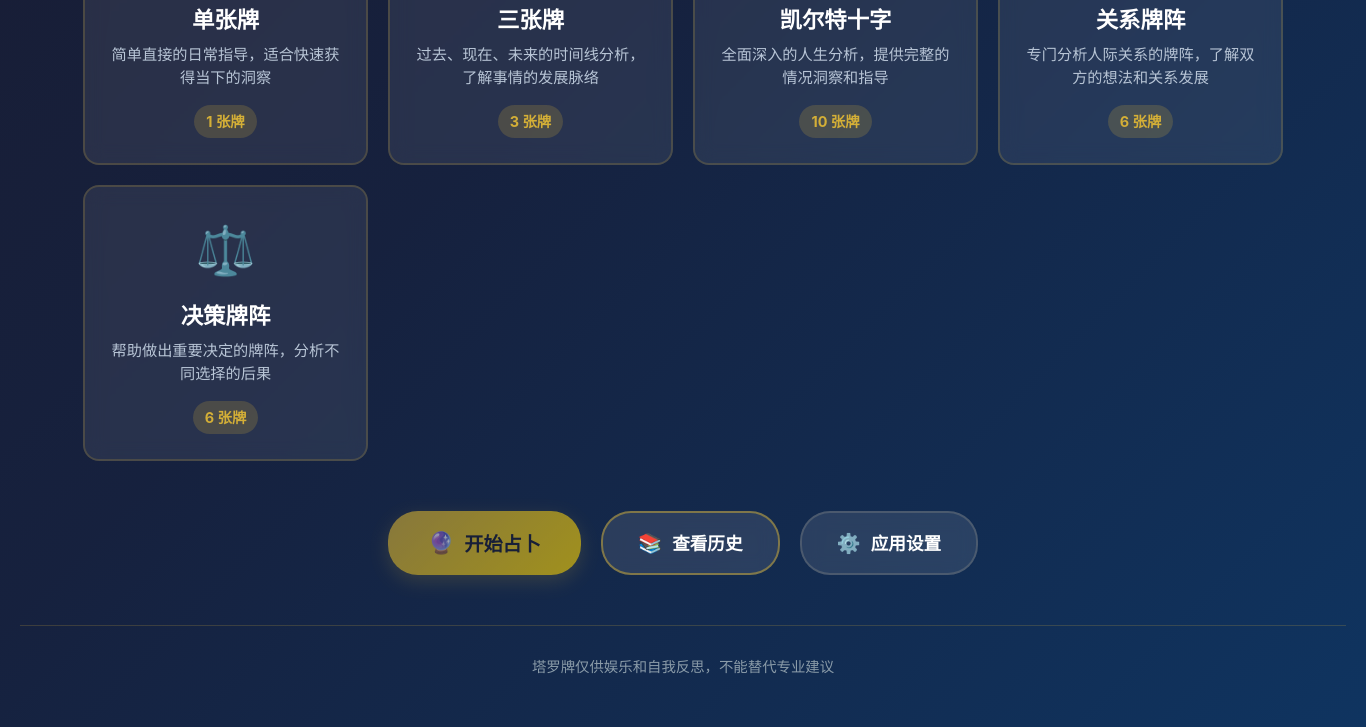
Scenario: 塔罗分析应用 - 集成测试 › 历史记录功能 › 应该显示空状态当没有历史记录时
(page scrolled)
Click the button "📚 查看历史".
click(690, 543)  # box [601,511,780,575]
(page scrolled)
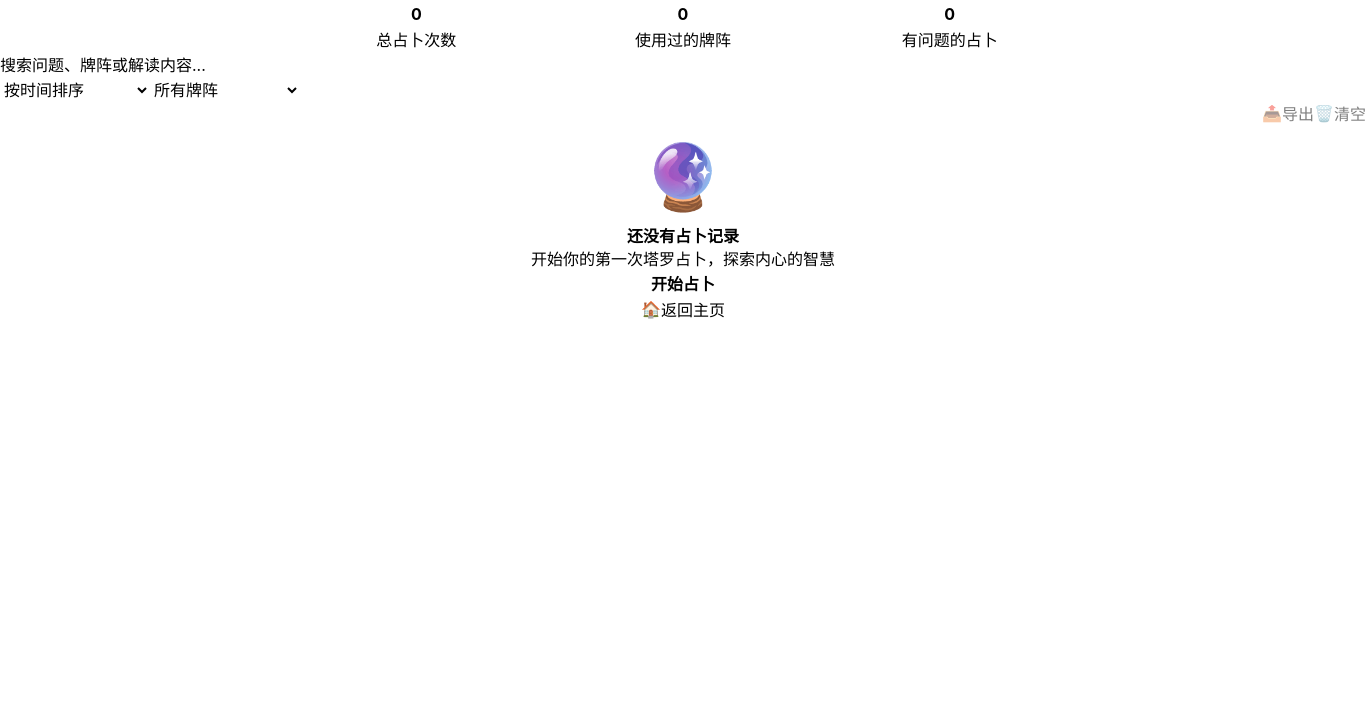
Expected: the heading "还没有占卜记录" is shown, [627,226,739,246]
Expected: the text "开始你的第一次塔罗占卜，探索内心的智慧" is shown, [531,248,835,268]
